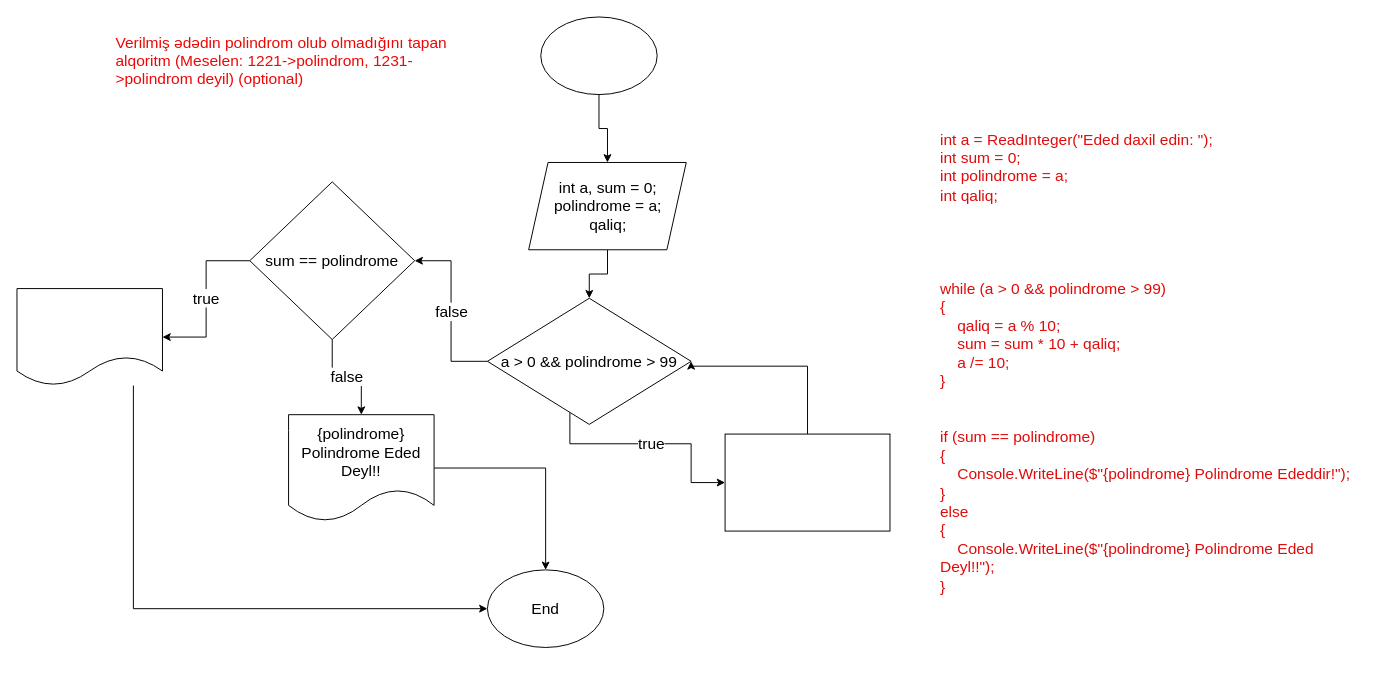
Some shapes in this 1373 by 684 pixel diagram are drawn without their labels. Each missing label, with the centre of its shape:
qaliq = a % 10; sum = sum * 10 + qaliq; a /= 10;: (x=807, y=482)
Start: (x=598, y=55)
{polindrome} Polindrome Ededdir!: (x=89, y=337)
